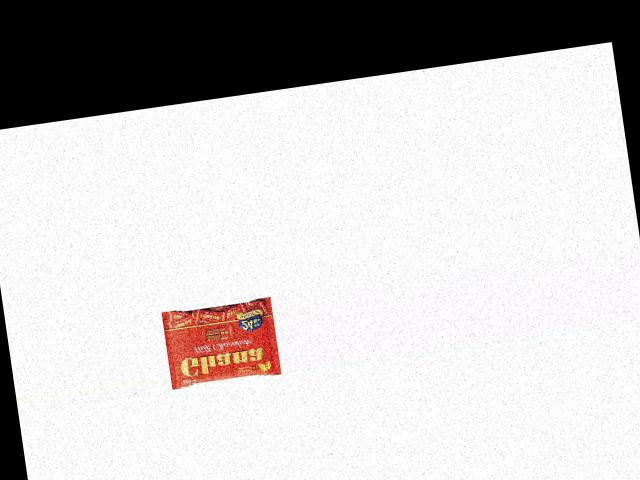chocolate: (162, 293, 282, 387)
